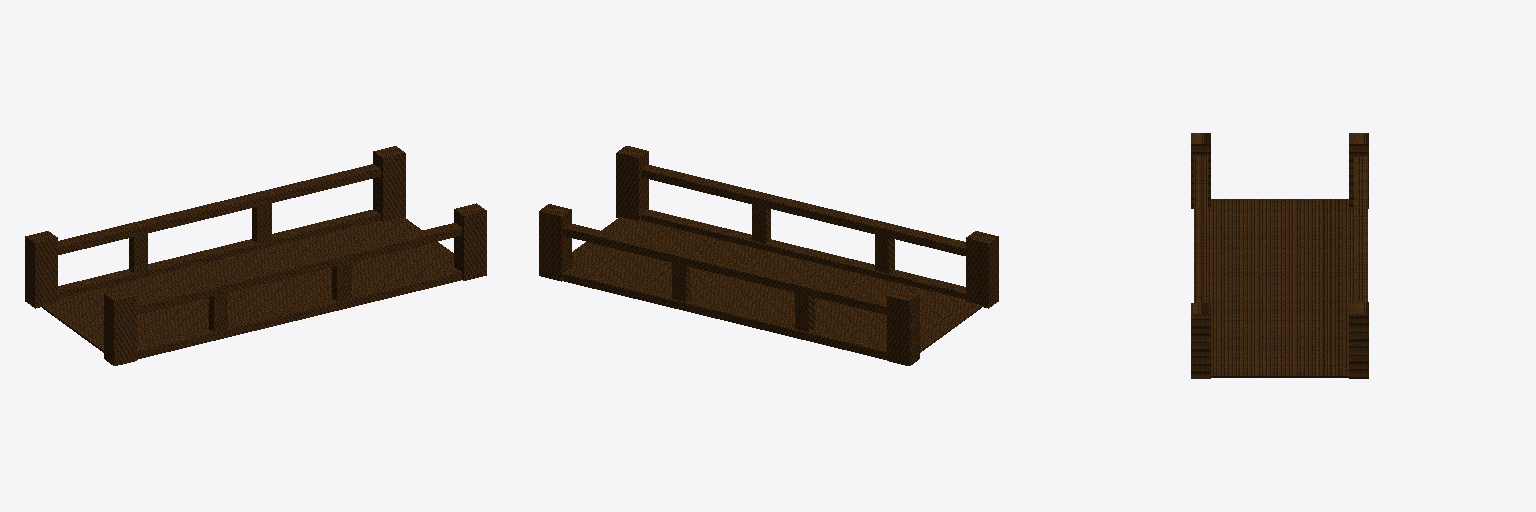
The picture shows the model from 3 angles: view 1: azimuth 30°, elevation 25°; view 2: azimuth 150°, elevation 25°; view 3: azimuth 270°, elevation 25°; orthographic projection.
Parts seen in each view (by area): view 1: Box013_Malla.012, Box007_Malla.006, Box008_Malla.007, Box006_Malla.005, Box005_Malla.004, Box002_Malla.001, Box003_Malla.002, Box001_Malla, Box004_Malla.003, Box010_Malla.009, Box011_Malla.010, Box012_Malla.011 (+1 smaller); view 2: Box013_Malla.012, Box007_Malla.006, Box008_Malla.007, Box005_Malla.004, Box006_Malla.005, Box003_Malla.002, Box002_Malla.001, Box004_Malla.003, Box001_Malla, Box012_Malla.011, Box009_Malla.008, Box010_Malla.009 (+1 smaller); view 3: Box013_Malla.012, Box007_Malla.006, Box008_Malla.007, Box004_Malla.003, Box001_Malla, Box002_Malla.001, Box003_Malla.002.
Part boxes in pixels (bbox=[...]): Box013_Malla.012: bbox=[41, 217, 453, 352]; Box007_Malla.006: bbox=[137, 223, 461, 314]; Box008_Malla.007: bbox=[58, 164, 380, 254]; Box006_Malla.005: bbox=[137, 268, 461, 359]; Box005_Malla.004: bbox=[58, 209, 380, 298]; Box002_Malla.001: bbox=[104, 289, 136, 365]; Box003_Malla.002: bbox=[25, 231, 57, 308]; Box001_Malla: bbox=[454, 203, 486, 280]; Box004_Malla.003: bbox=[373, 146, 405, 221]; Box010_Malla.009: bbox=[252, 203, 271, 243]; Box011_Malla.010: bbox=[332, 262, 351, 301]; Box012_Malla.011: bbox=[129, 234, 147, 273]; Box013_Malla.012: bbox=[572, 217, 982, 352]; Box007_Malla.006: bbox=[641, 165, 965, 255]; Box008_Malla.007: bbox=[563, 223, 886, 314]; Box005_Malla.004: bbox=[563, 268, 886, 359]; Box006_Malla.005: bbox=[641, 209, 965, 299]; Box003_Malla.002: bbox=[887, 289, 919, 365]; Box002_Malla.001: bbox=[966, 231, 998, 308]; Box004_Malla.003: bbox=[539, 204, 571, 281]; Box001_Malla: bbox=[616, 146, 648, 221]; Box012_Malla.011: bbox=[795, 293, 814, 331]; Box009_Malla.008: bbox=[875, 235, 894, 273]; Box010_Malla.009: bbox=[672, 263, 690, 301]; Box013_Malla.012: bbox=[1208, 199, 1353, 377]; Box007_Malla.006: bbox=[1194, 156, 1207, 302]; Box008_Malla.007: bbox=[1354, 156, 1367, 301]; Box004_Malla.003: bbox=[1349, 302, 1368, 378]; Box001_Malla: bbox=[1191, 303, 1210, 378]; Box002_Malla.001: bbox=[1191, 133, 1210, 208]; Box003_Malla.002: bbox=[1349, 133, 1368, 208].
Size of the model in its own units: 2.15 by 0.3583 by 0.8899.
Materials: 1 (1 with a texture image).